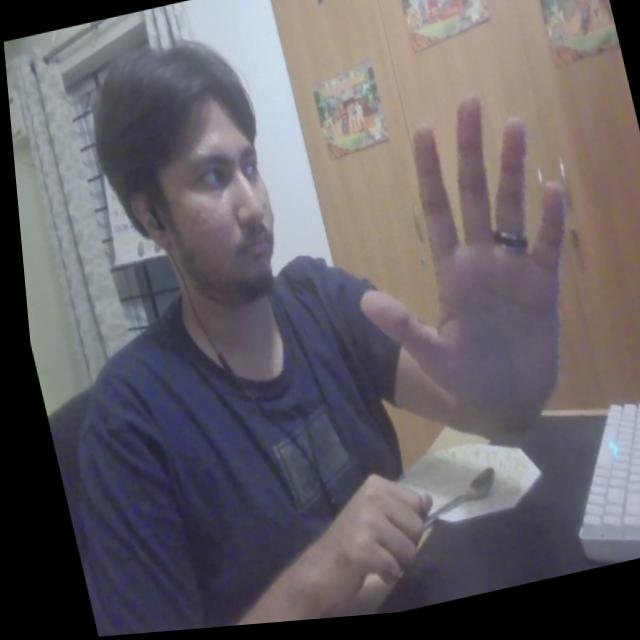hello: (306, 81, 614, 480)
